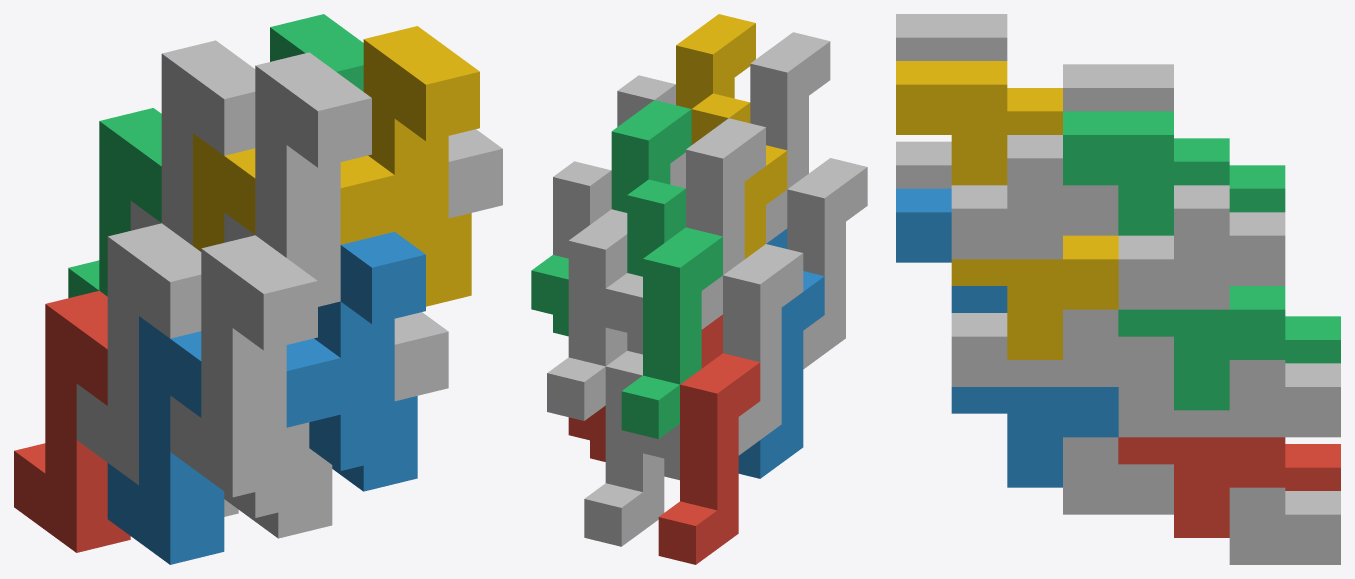
The model's file is tiling.obj.
3 views of the same model, side by side, from view 1: azimuth 30°, elevation 25°; view 2: azimuth 150°, elevation 25°; view 3: azimuth 270°, elevation 25° (orthographic). The views are drawn at different scales.
Visible parts, largest first — view 1: copy_2_domain_2, copy_2_domain_4, copy_2_domain_8, copy_1_domain_2, copy_2_domain_6, copy_1_domain_1, copy_2_domain_1, copy_2_domain_3, copy_1_domain_4, copy_1_domain_3, copy_1_domain_6, copy_1_domain_8 (+1 smaller); view 2: copy_1_domain_3, copy_1_domain_7, copy_1_domain_1, copy_2_domain_3, copy_2_domain_1, copy_2_domain_2, copy_1_domain_5, copy_2_domain_4, copy_2_domain_7, copy_1_domain_2, copy_2_domain_8, copy_1_domain_4 (+2 smaller); view 3: copy_1_domain_7, copy_2_domain_7, copy_2_domain_8, copy_1_domain_8, copy_2_domain_6, copy_1_domain_5, copy_1_domain_6, copy_2_domain_5, copy_1_domain_3, copy_2_domain_3, copy_2_domain_4, copy_2_domain_2 (+2 smaller).
Boxes of the visible parts, x1,y1,x2,y2 form: copy_2_domain_2: (170, 235, 317, 517); copy_2_domain_4: (224, 52, 371, 306); copy_2_domain_8: (363, 26, 479, 306); copy_1_domain_2: (107, 316, 340, 564); copy_2_domain_6: (309, 231, 425, 491); copy_1_domain_1: (14, 290, 130, 552); copy_2_domain_1: (76, 223, 201, 485); copy_2_domain_3: (130, 40, 255, 245); copy_1_domain_4: (193, 133, 394, 251); copy_1_domain_3: (68, 108, 161, 298); copy_1_domain_6: (224, 312, 448, 538); copy_1_domain_8: (448, 129, 502, 218); copy_1_domain_3: (621, 179, 722, 438); copy_1_domain_7: (547, 161, 627, 420); copy_1_domain_1: (658, 314, 760, 564); copy_2_domain_3: (605, 118, 765, 354); copy_2_domain_1: (643, 244, 803, 480); copy_2_domain_2: (787, 158, 867, 369); copy_1_domain_5: (584, 350, 664, 546); copy_2_domain_4: (750, 32, 830, 243); copy_2_domain_7: (531, 100, 691, 336); copy_1_domain_2: (738, 228, 824, 478); copy_2_domain_8: (676, 14, 755, 108); copy_1_domain_4: (691, 93, 787, 258); copy_1_domain_7: (1118, 185, 1340, 437); copy_2_domain_7: (1063, 111, 1285, 410); copy_2_domain_8: (896, 61, 1118, 359); copy_1_domain_8: (951, 135, 1173, 386); copy_2_domain_6: (896, 188, 1118, 487); copy_1_domain_5: (1118, 387, 1340, 564); copy_1_domain_6: (951, 313, 1173, 514); copy_2_domain_5: (1118, 437, 1285, 537); copy_1_domain_3: (1174, 138, 1340, 363); copy_2_domain_3: (1063, 64, 1173, 111); copy_2_domain_4: (896, 14, 1007, 60); copy_2_domain_2: (896, 141, 951, 188).
Size of the model in its own units: 5 by 10 by 8.
